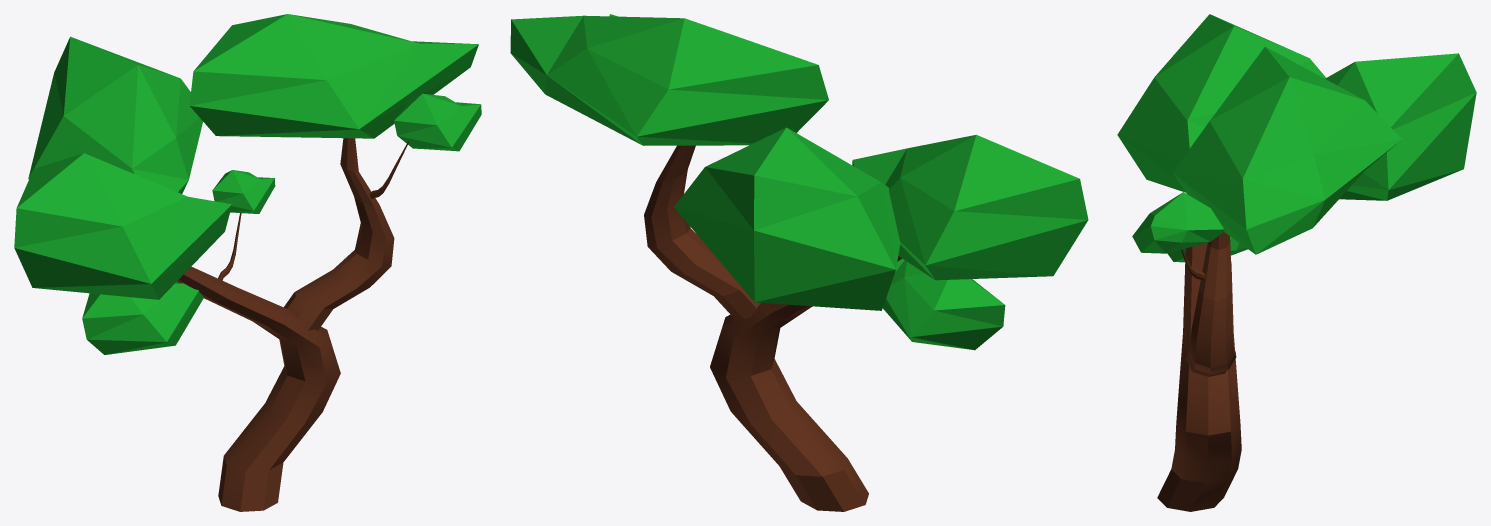
The model's file is tree1.fbx.
The picture shows the model from 3 angles, left to right: view 1: azimuth 30°, elevation 25°; view 2: azimuth 150°, elevation 25°; view 3: azimuth 270°, elevation 25°; orthographic projection. The views are drawn at different scales.
Visible parts, largest first — view 1: tree2:pCylinder24; view 2: tree2:pCylinder24; view 3: tree2:pCylinder24.
Part boxes in pixels (<box>): tree2:pCylinder24: <box>14,14,481,511</box>; tree2:pCylinder24: <box>510,14,1088,511</box>; tree2:pCylinder24: <box>1117,14,1476,511</box>.
Bounding box in the file's own units: 5.41 × 4.6 × 3.22.
